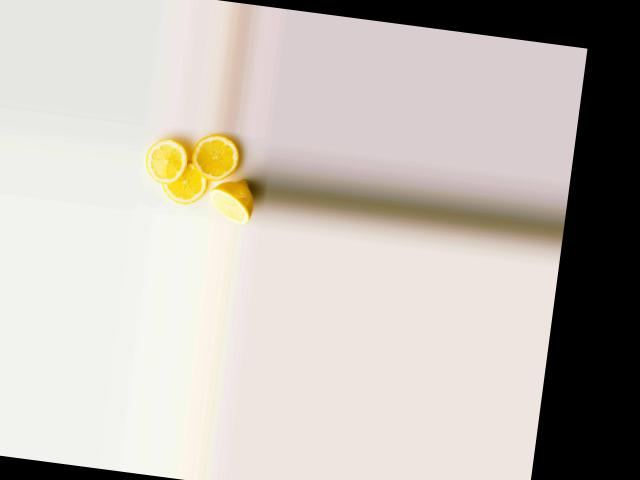lemon: (205, 180, 258, 226)
